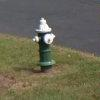Hydrant: (23, 9, 67, 81)
